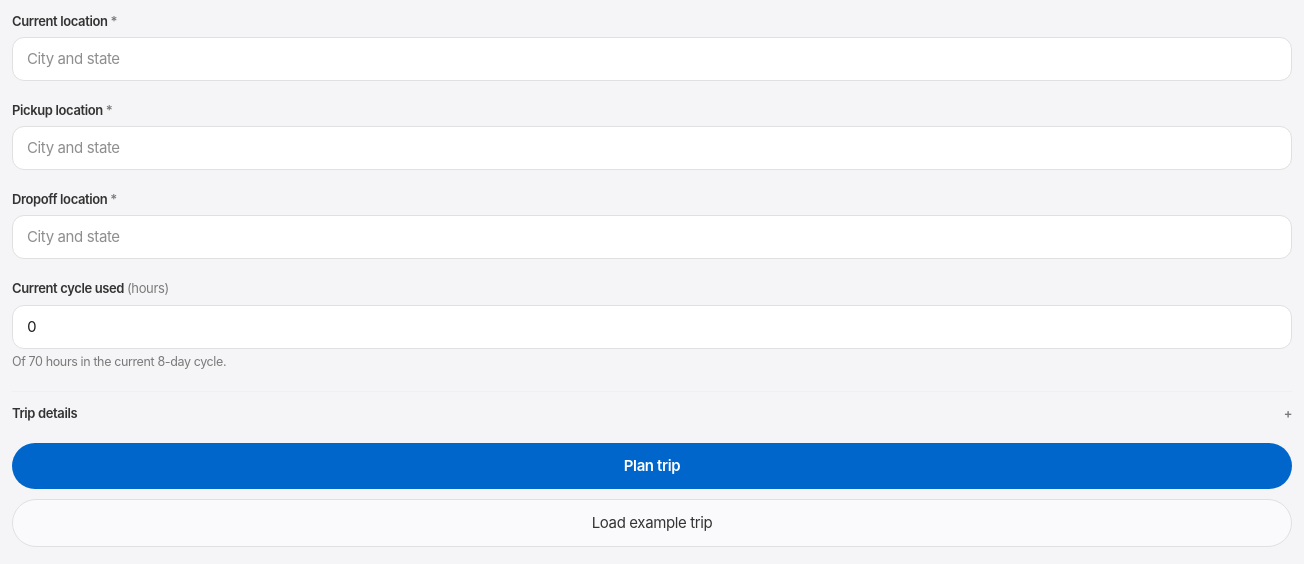
Test: cycle hours › warns that a restart is likely once the driver passes 66 hours
Replace the text in the number field labelled "Current cycle used (hours)" with "68" at point(652, 327), box x1=12 y1=305 x2=1292 y2=349
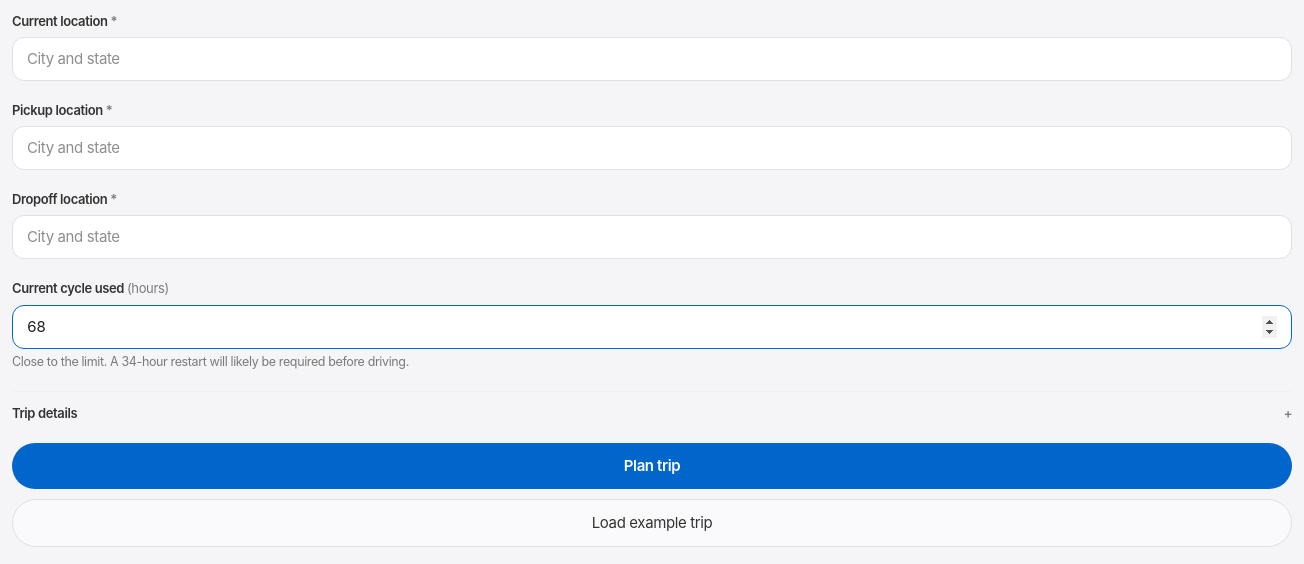
Expected: the text "34-hour restart will likely be required" is shown, x1=12 y1=354 x2=409 y2=369
